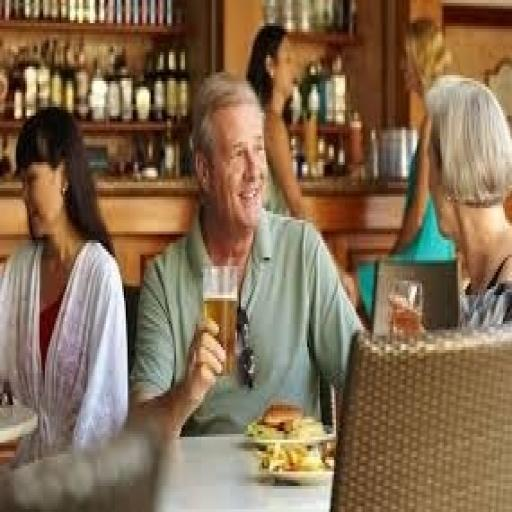eating: (130, 69, 368, 437), (0, 101, 131, 469)
